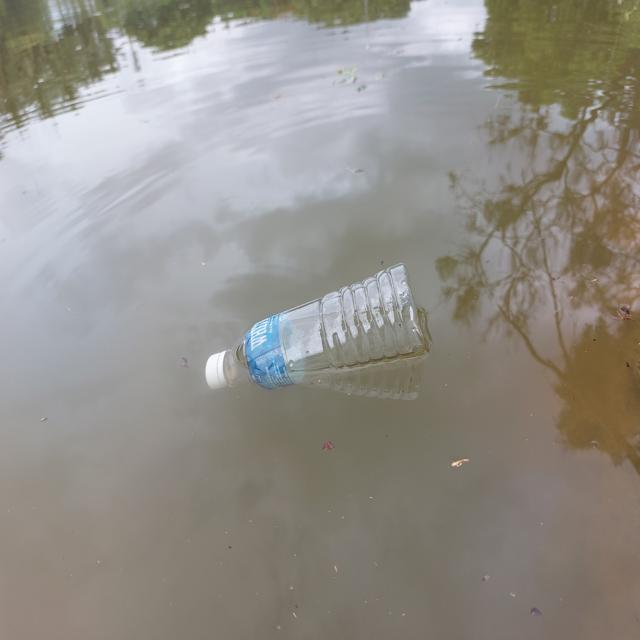waterbottle: (198, 260, 443, 442)
